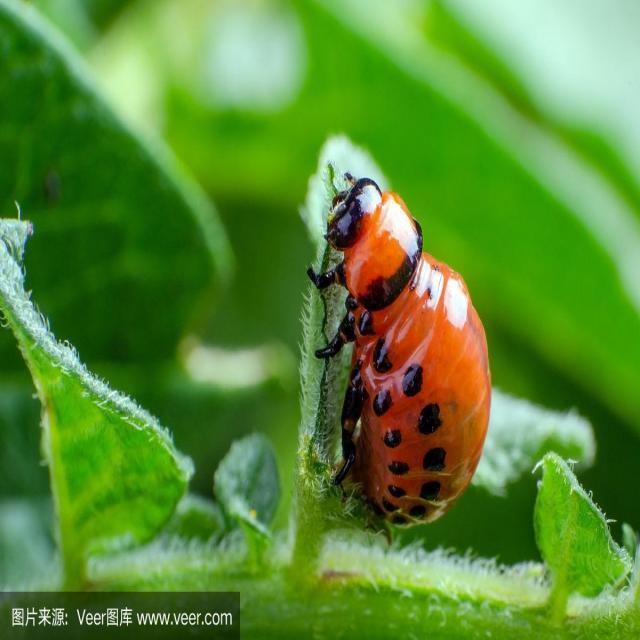ShuCaiHuaBanChong-Larva-: (308, 158, 519, 515)
